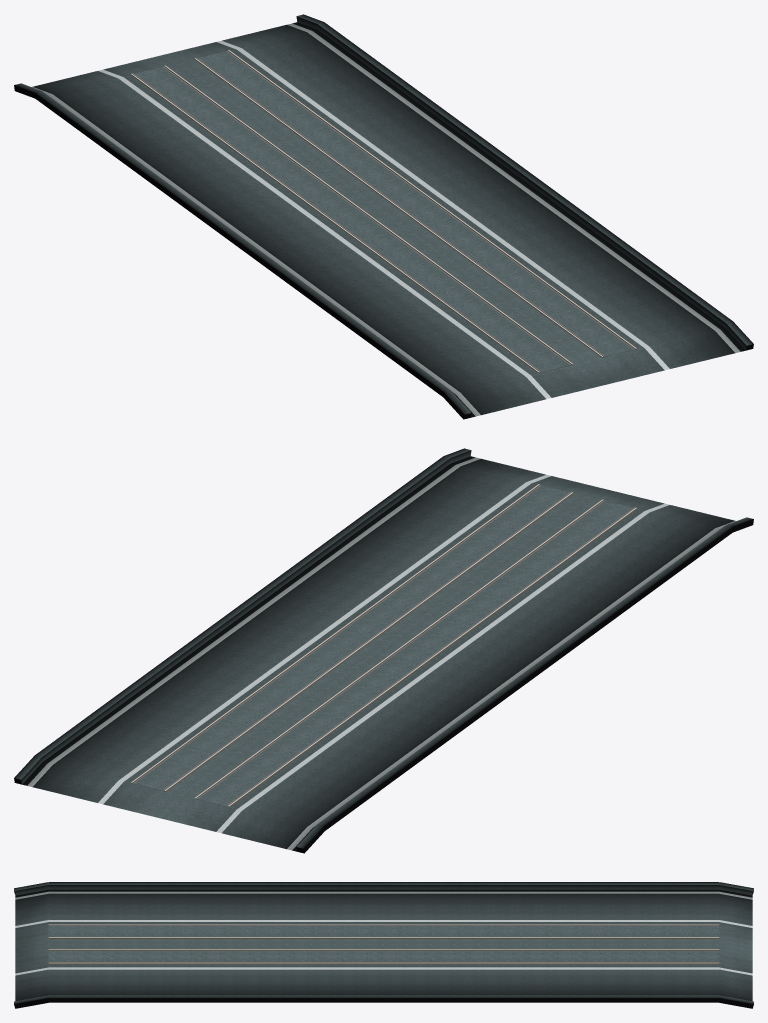
File: K_RO_2RAIL.glb
The picture shows the model from 3 angles, top to bottom: view 1: azimuth 30°, elevation 25°; view 2: azimuth 150°, elevation 25°; view 3: azimuth 270°, elevation 25°; orthographic projection. The views are drawn at different scales.
Parts seen in each view (by area): view 1: rail; view 2: rail; view 3: rail.
Part boxes in pixels (x1,y1,x2,y2): rail: [14, 14, 753, 419]; rail: [14, 448, 753, 853]; rail: [14, 882, 753, 1008].
Bounding box in the file's own units: 41 × 1.75 × 110.
3 materials, 3 textured.
